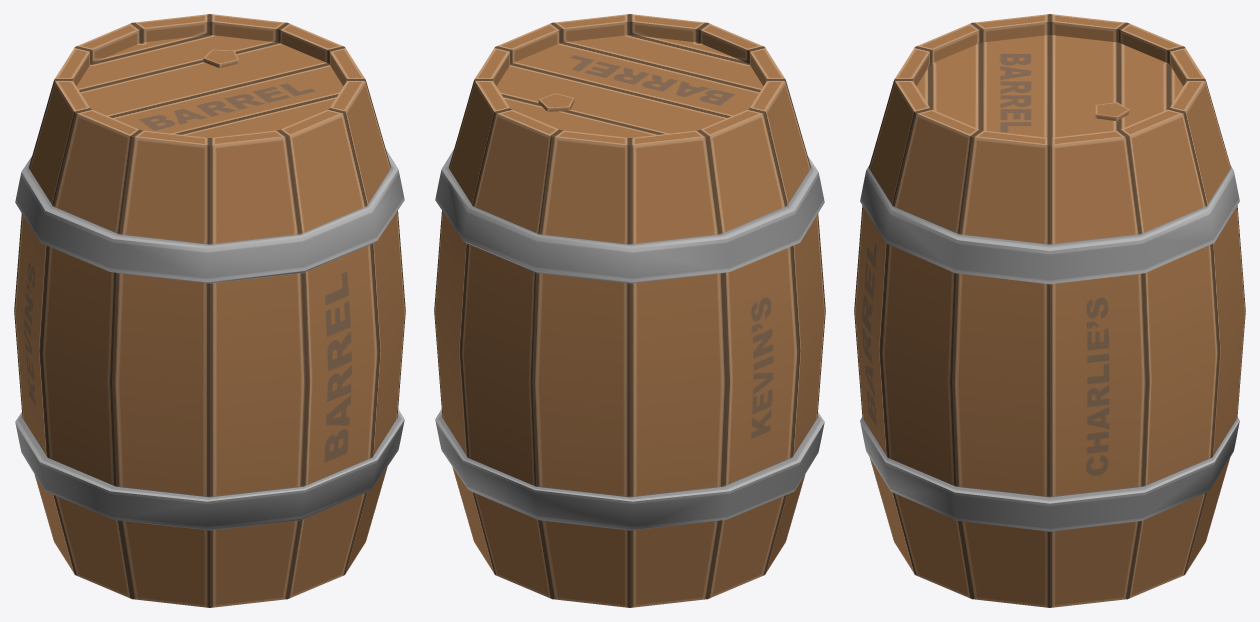
File: Barrel.fbx
The picture shows the model from 3 angles, left to right: view 1: azimuth 30°, elevation 25°; view 2: azimuth 150°, elevation 25°; view 3: azimuth 270°, elevation 25°; orthographic projection.
Visible parts, largest first — view 1: Cylinder; view 2: Cylinder; view 3: Cylinder.
Part boxes in pixels (left/top/right/bottom): Cylinder: left=14, top=14, right=405, bottom=607; Cylinder: left=434, top=14, right=825, bottom=607; Cylinder: left=854, top=14, right=1245, bottom=607.
Bounding box in the file's own units: 69.32 × 90 × 69.12.
1 material, 1 textured.
